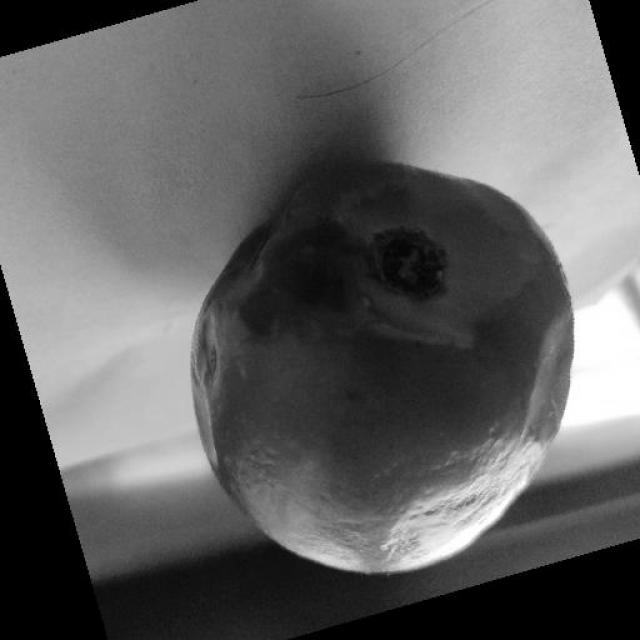Stale_tomato: (213, 136, 579, 596)
